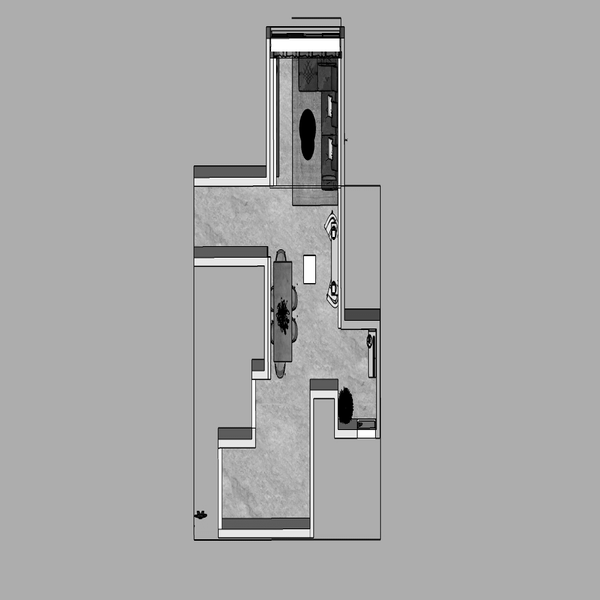wall: (331, 20, 351, 328), (214, 508, 317, 544), (307, 376, 323, 539), (214, 426, 233, 542), (261, 259, 278, 378), (199, 164, 271, 189), (335, 414, 381, 453), (247, 363, 262, 455), (191, 244, 267, 261), (339, 303, 380, 331), (310, 372, 344, 403), (220, 422, 255, 450), (334, 386, 347, 434)
